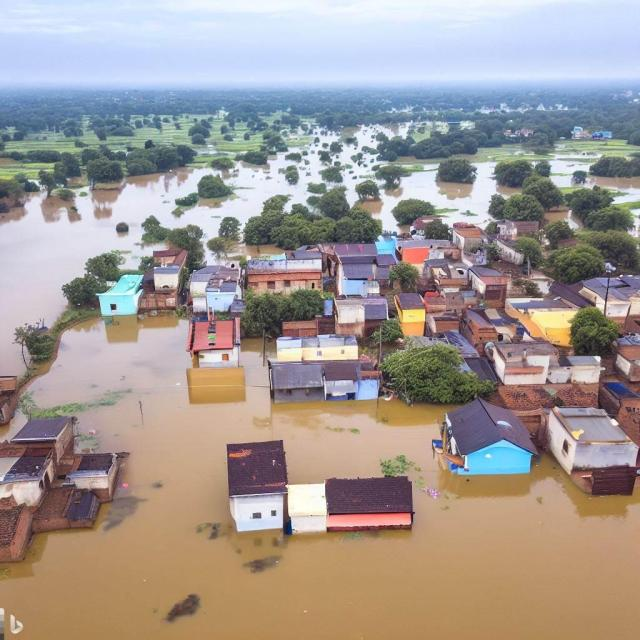flood: (0, 316, 640, 640), (0, 123, 632, 371), (588, 174, 640, 203), (547, 208, 581, 225)
house: (443, 392, 533, 477), (226, 436, 290, 542), (546, 408, 636, 480), (326, 476, 412, 537), (270, 336, 366, 385), (277, 351, 371, 398), (244, 244, 325, 292), (138, 246, 190, 310), (489, 338, 557, 384), (599, 377, 640, 448), (518, 300, 581, 346), (188, 362, 250, 408), (0, 444, 51, 494), (192, 314, 242, 364), (98, 274, 148, 324), (58, 452, 120, 492), (582, 274, 640, 316), (189, 264, 243, 309), (0, 498, 36, 563), (285, 481, 328, 533), (14, 418, 74, 451), (464, 306, 505, 346), (395, 292, 427, 338), (332, 298, 367, 338), (470, 268, 510, 300), (452, 219, 485, 255), (615, 341, 640, 385), (569, 354, 602, 384), (398, 238, 428, 268), (362, 295, 390, 324), (280, 320, 322, 338)
